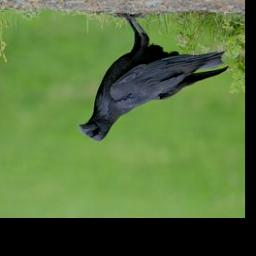Crow: (78, 12, 231, 143)
